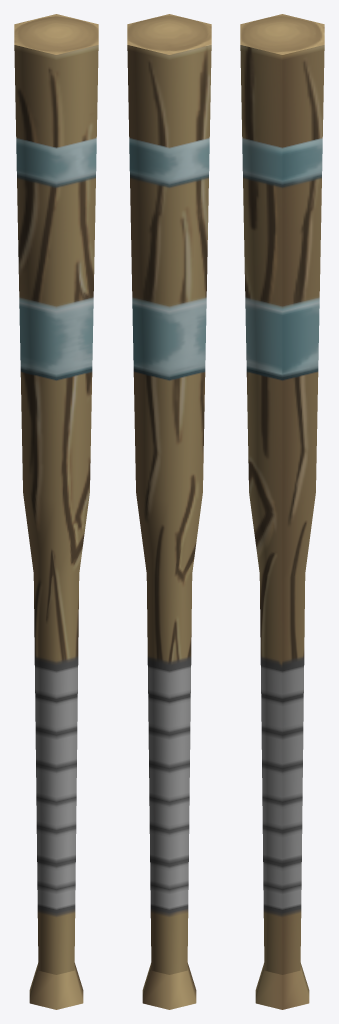
The model's file is w_bat.FBX.
3 renders of one model, left to right at view 1: azimuth 30°, elevation 25°; view 2: azimuth 210°, elevation 25°; view 3: azimuth 270°, elevation 25°, orthographic.
Parts seen in each view (by area): view 1: w_bbat; view 2: w_bbat; view 3: w_bbat.
Part boxes in pixels (x1,y1,x2,y2): w_bbat: [14, 14, 98, 1009]; w_bbat: [127, 14, 211, 1009]; w_bbat: [240, 14, 324, 1009].
Size of the model in its own units: 5.9 by 64.86 by 5.11.
